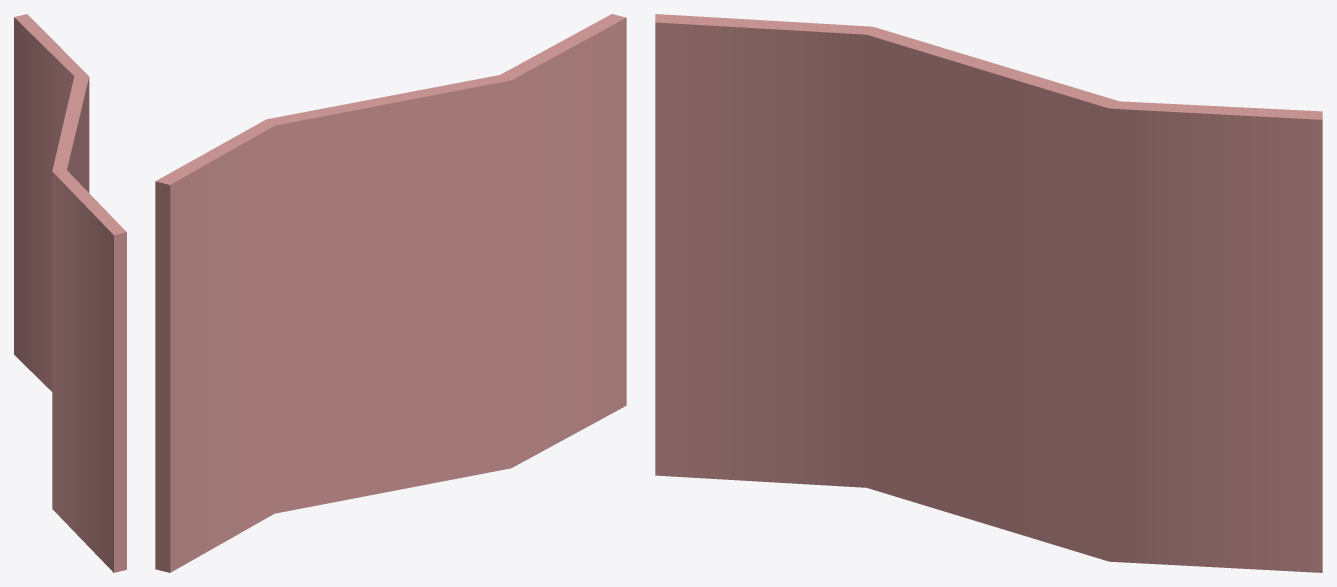
Rendered from Fence_B_C_COL.fbx.
3 renders of one model, left to right at view 1: azimuth 30°, elevation 25°; view 2: azimuth 150°, elevation 25°; view 3: azimuth 270°, elevation 25°, orthographic. The views are drawn at different scales.
Parts seen in each view (by area): view 1: Fence_B_C_COL; view 2: Fence_B_C_COL; view 3: Fence_B_C_COL.
Part boxes in pixels (x1,y1,x2,y2): Fence_B_C_COL: [14, 14, 126, 572]; Fence_B_C_COL: [155, 14, 626, 572]; Fence_B_C_COL: [655, 14, 1322, 572].
Size of the model in its own units: 109 by 217 by 289.
